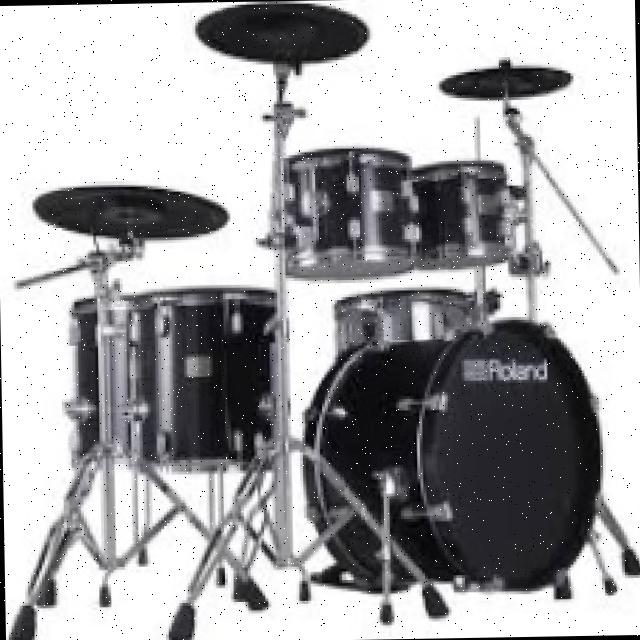drums: (25, 0, 612, 601)
